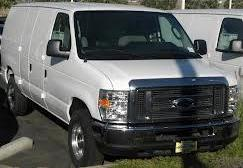front_view: (90, 73, 235, 153)
headlight: (94, 87, 150, 136)
side_glass: (46, 9, 73, 61)
